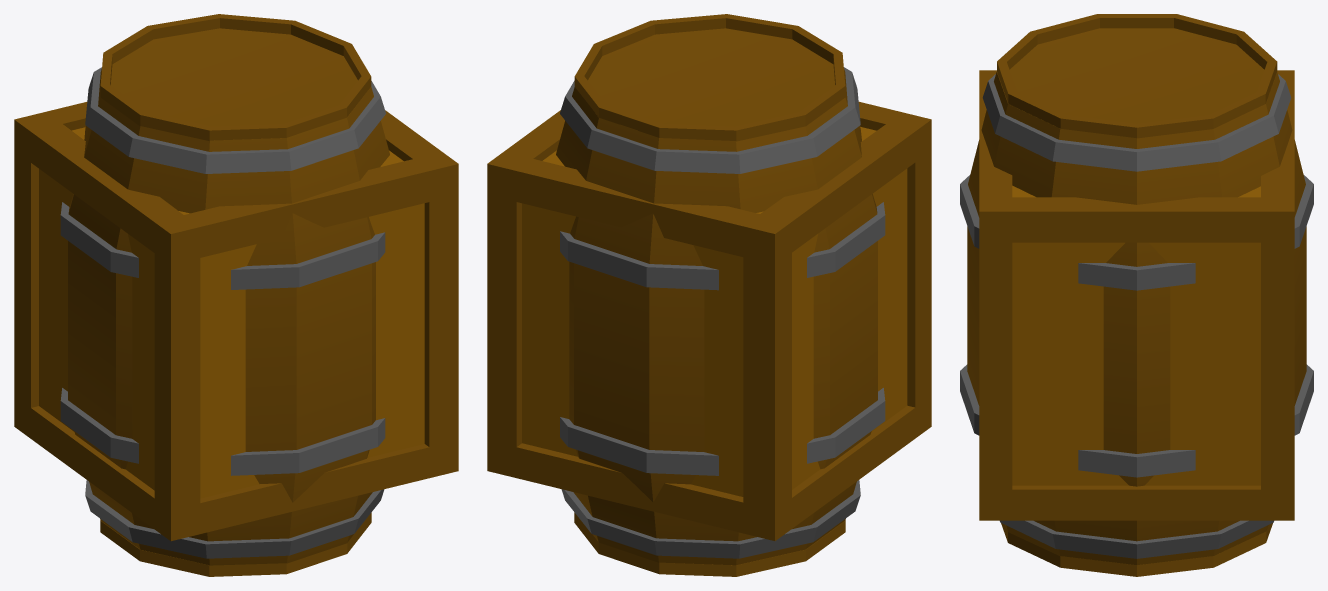
The model's file is Props.fbx.
3 renders of one model, left to right at view 1: azimuth 30°, elevation 25°; view 2: azimuth 150°, elevation 25°; view 3: azimuth 270°, elevation 25°, orthographic.
Visible parts, largest first — view 1: pCylinder10, pCube49; view 2: pCylinder10, pCube49; view 3: pCube49, pCylinder10.
Boxes of the visible parts, x1,y1,x2,y2 form: pCylinder10: (60, 14, 389, 576); pCube49: (14, 102, 458, 541); pCylinder10: (556, 14, 885, 576); pCube49: (487, 101, 931, 540); pCube49: (979, 70, 1294, 520); pCylinder10: (960, 14, 1313, 576).
Bounding box in the file's own units: 1.76 × 2.48 × 1.77.
